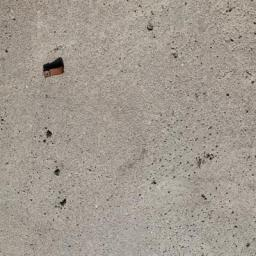FOD: (43, 58, 67, 81)
